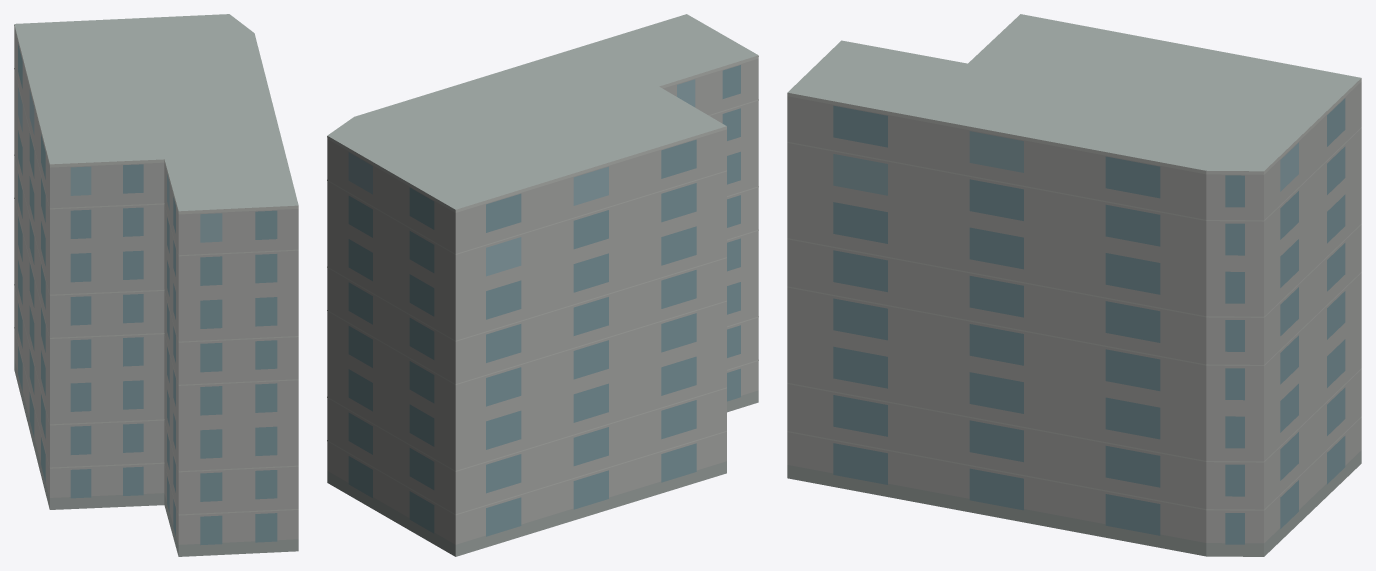
Rendered from survey-upis-32740289.glb.
3 renders of one model, left to right at view 1: azimuth 30°, elevation 25°; view 2: azimuth 150°, elevation 25°; view 3: azimuth 270°, elevation 25°, orthographic. The views are drawn at different scales.
Visible parts, largest first — view 1: survey-upis-32740289.tmp; view 2: survey-upis-32740289.tmp; view 3: survey-upis-32740289.tmp.
Part boxes in pixels (x1,y1,x2,y2): survey-upis-32740289.tmp: (14, 14, 298, 556); survey-upis-32740289.tmp: (327, 14, 758, 556); survey-upis-32740289.tmp: (787, 14, 1361, 556).
Bounding box in the file's own units: 23.07 × 26.35 × 35.58.
